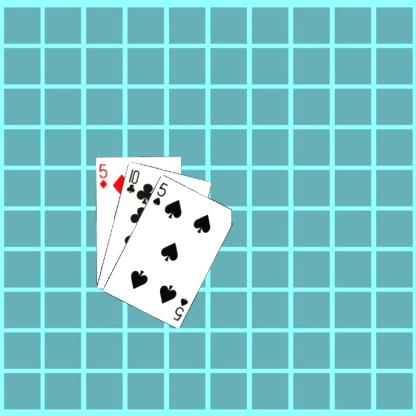10C: (124, 166, 140, 194)
5D: (96, 161, 109, 189)
5S: (150, 179, 169, 206), (170, 295, 189, 322)
